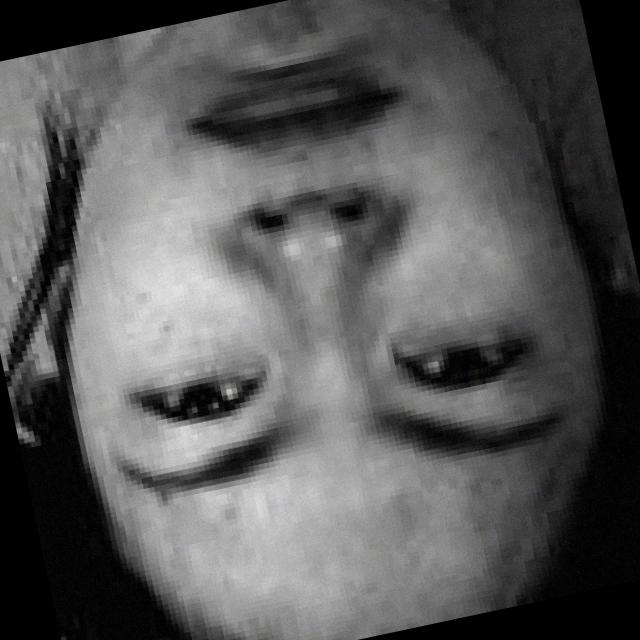disgust: (33, 0, 605, 640)
